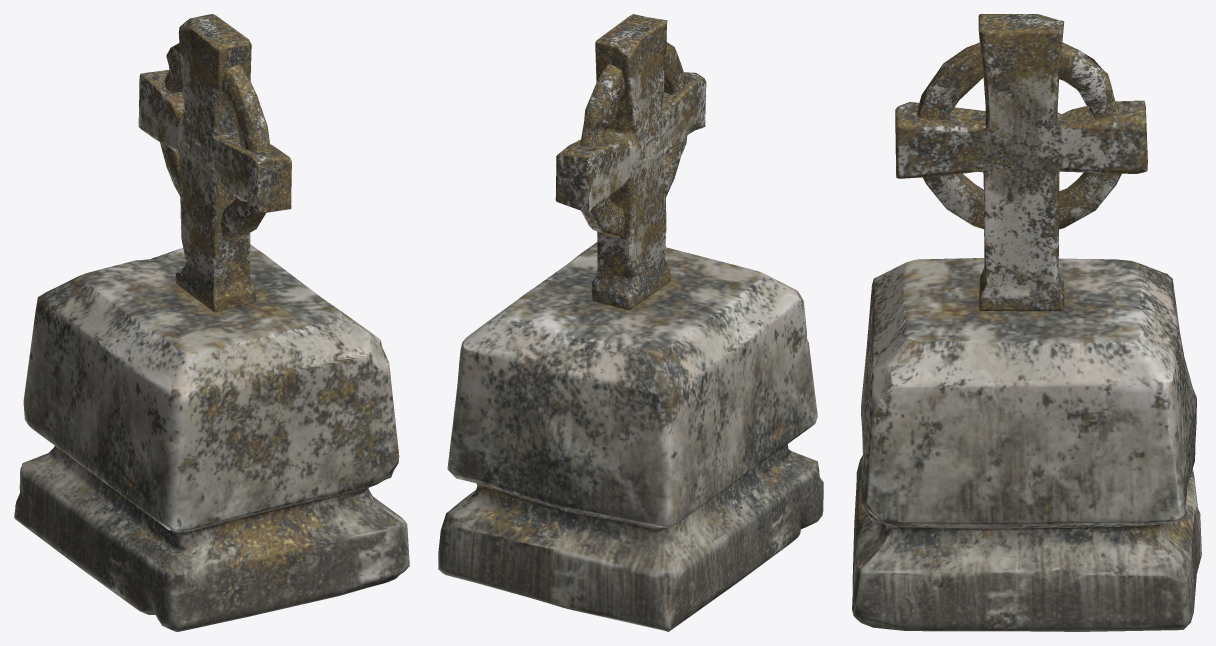
Rendered from SM_Cemetery06.fbx.
The picture shows the model from 3 angles, left to right: view 1: azimuth 30°, elevation 25°; view 2: azimuth 150°, elevation 25°; view 3: azimuth 270°, elevation 25°; orthographic projection. The views are drawn at different scales.
Visible parts, largest first — view 1: SM_Cemetery06_LOD0; view 2: SM_Cemetery06_LOD0; view 3: SM_Cemetery06_LOD0.
Boxes of the visible parts, x1,y1,x2,y2 form: SM_Cemetery06_LOD0: (14,14,409,631); SM_Cemetery06_LOD0: (438,14,823,631); SM_Cemetery06_LOD0: (852,14,1201,631).
Bounding box in the file's own units: 87.12 × 102 × 177.
